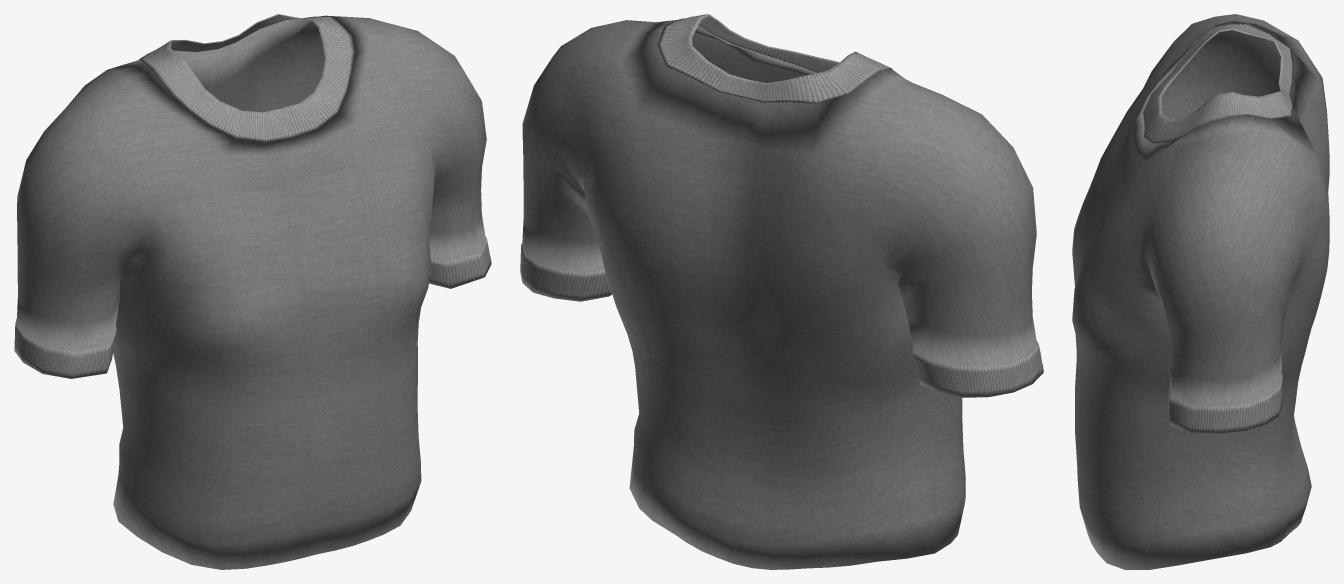
File: top_tucked_tee.gltf
3 renders of one model, left to right at view 1: azimuth 30°, elevation 25°; view 2: azimuth 150°, elevation 25°; view 3: azimuth 270°, elevation 25°, orthographic. The views are drawn at different scales.
Parts seen in each view (by area): view 1: top_tucked_tee; view 2: top_tucked_tee; view 3: top_tucked_tee.
Part boxes in pixels (x1,y1,x2,y2): top_tucked_tee: (14, 14, 491, 569); top_tucked_tee: (520, 14, 1043, 569); top_tucked_tee: (1072, 14, 1329, 569).
Bounding box in the file's own units: 0.4702 × 0.4569 × 0.2318.
1 material, 1 textured.
